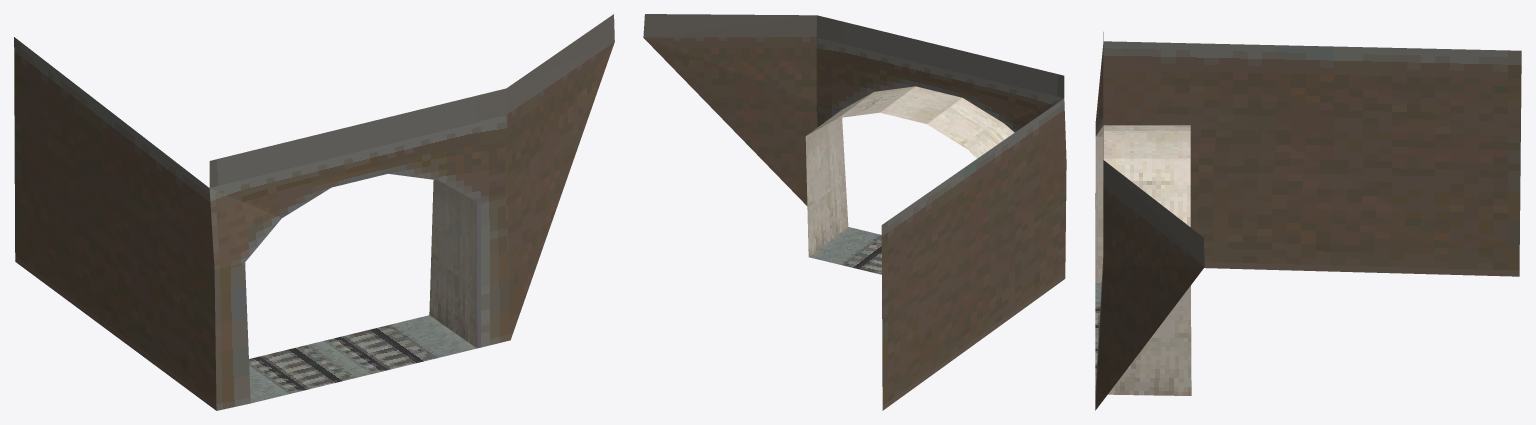
The model's file is lodlaetraintunn01.obj.
3 renders of one model, left to right at view 1: azimuth 30°, elevation 25°; view 2: azimuth 150°, elevation 25°; view 3: azimuth 270°, elevation 25°, orthographic. The views are drawn at different scales.
Visible parts, largest first — view 1: LODlaetraintunn01; view 2: LODlaetraintunn01; view 3: LODlaetraintunn01.
Part boxes in pixels (x1=…): LODlaetraintunn01: x1=14, y1=14, x2=614, y2=410; LODlaetraintunn01: x1=643, y1=14, x2=1066, y2=410; LODlaetraintunn01: x1=1095, y1=32, x2=1521, y2=410.
Size of the model in its own units: 22.23 by 11.88 by 17.88.
4 materials, 4 textured.
